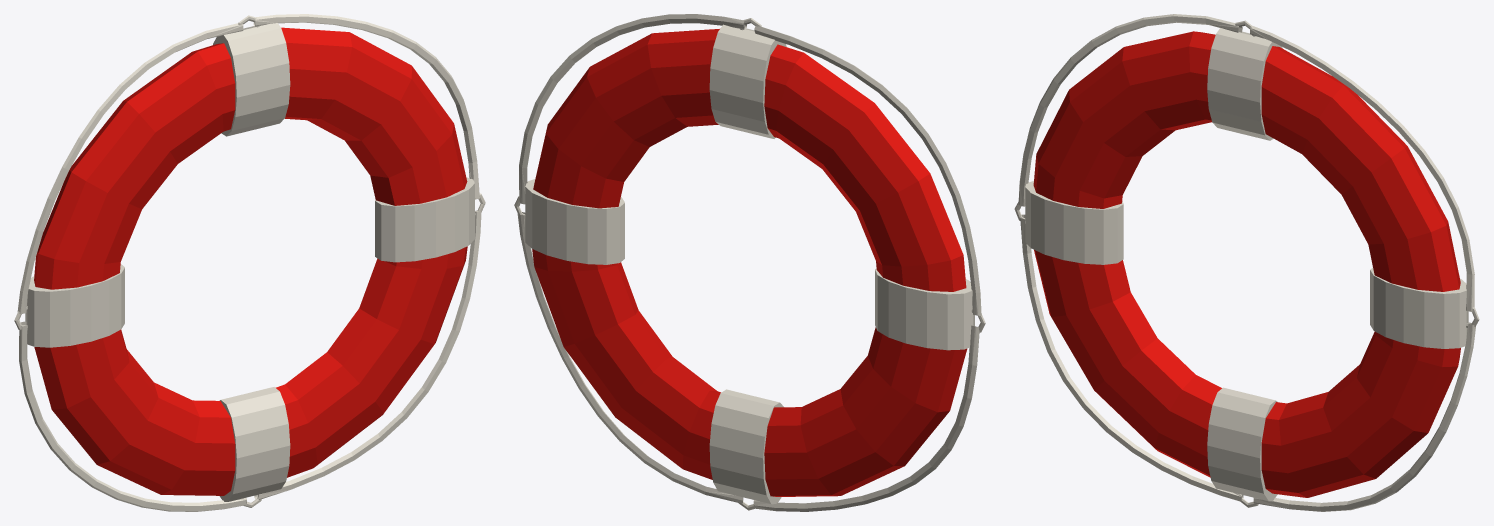
Rendered from lifebuoy_low_poly_materialized.obj.
3 views of the same model, side by side, from view 1: azimuth 30°, elevation 25°; view 2: azimuth 150°, elevation 25°; view 3: azimuth 330°, elevation 25° (orthographic).
Visible parts, largest first — view 1: LifeBuoy_LifeBuoy_red_0, LifeBuoy_LifeBuoy_white_0; view 2: LifeBuoy_LifeBuoy_red_0, LifeBuoy_LifeBuoy_white_0; view 3: LifeBuoy_LifeBuoy_red_0, LifeBuoy_LifeBuoy_white_0.
Boxes of the visible parts, bbox=[...] form: LifeBuoy_LifeBuoy_red_0: bbox=[34, 27, 467, 495]; LifeBuoy_LifeBuoy_white_0: bbox=[14, 14, 485, 511]; LifeBuoy_LifeBuoy_red_0: bbox=[532, 29, 967, 496]; LifeBuoy_LifeBuoy_white_0: bbox=[514, 14, 985, 511]; LifeBuoy_LifeBuoy_red_0: bbox=[1033, 31, 1460, 497]; LifeBuoy_LifeBuoy_white_0: bbox=[1014, 14, 1479, 511].
Bounding box in the file's own units: 1.8 × 1.8 × 0.18.
